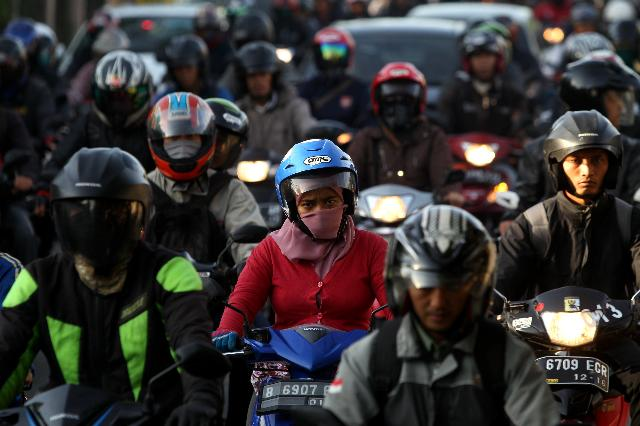helm: (386, 204, 500, 344), (50, 145, 153, 273), (275, 143, 365, 246), (541, 108, 624, 211), (146, 92, 218, 181), (557, 60, 639, 133), (90, 49, 153, 135), (369, 59, 431, 139), (159, 36, 214, 93), (458, 29, 511, 87), (233, 46, 284, 104), (310, 26, 359, 84)
motor: (481, 274, 640, 426), (206, 312, 406, 426)
